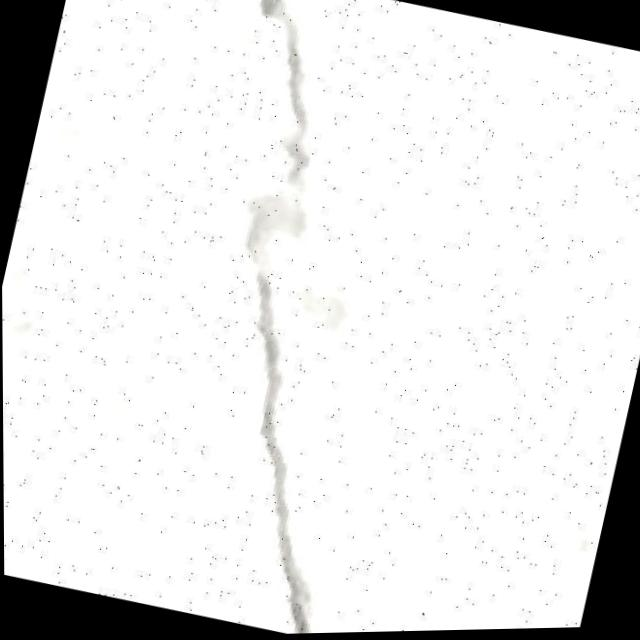Crack: (98, 0, 464, 638)
